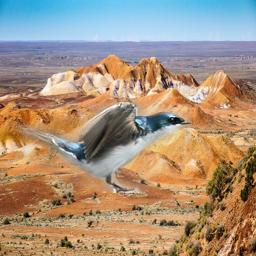Swallow: (16, 99, 192, 193)
